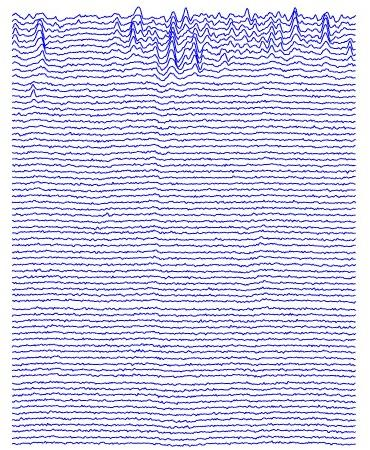defect: (218, 10, 282, 67), (167, 9, 207, 72), (126, 6, 159, 80), (31, 4, 51, 74), (6, 10, 22, 69), (287, 4, 303, 50), (319, 9, 332, 52), (22, 75, 40, 104), (107, 8, 120, 44), (346, 35, 356, 65)
